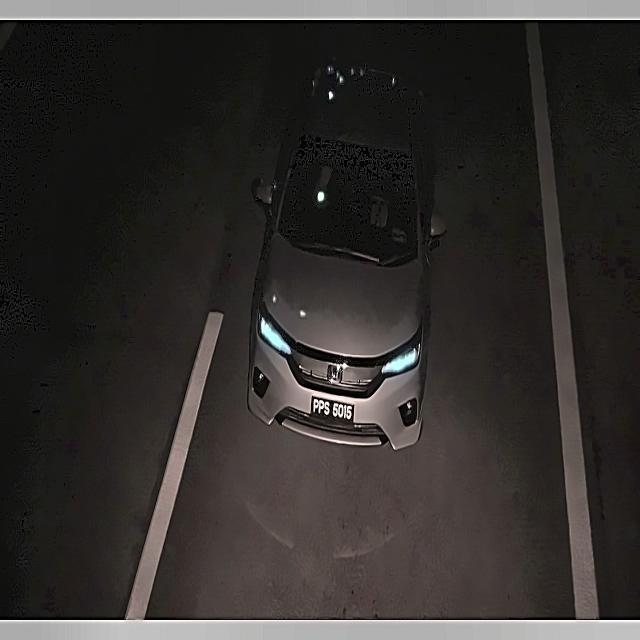car: (308, 389, 358, 427)
